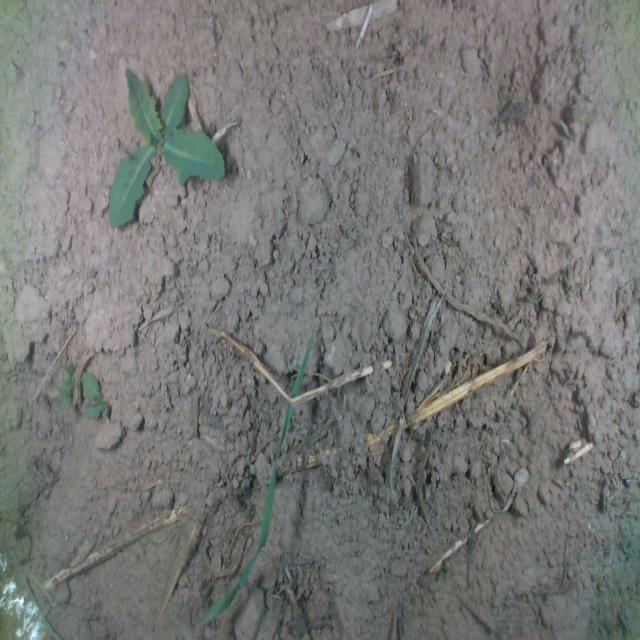weed: (107, 67, 227, 229)
